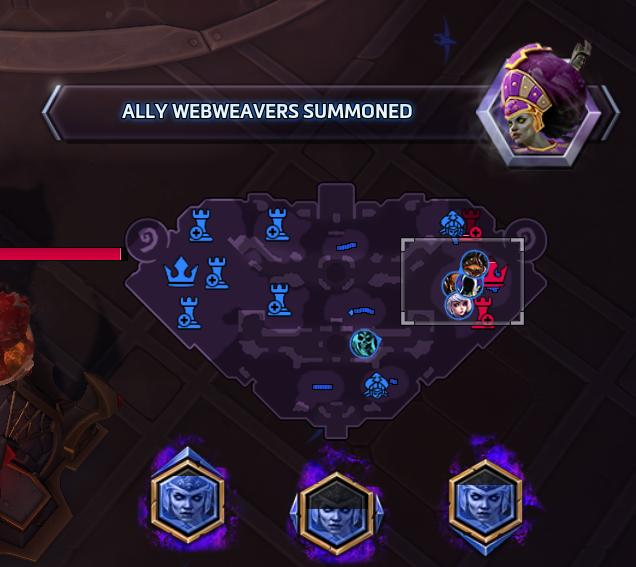blue nexus: (162, 254, 199, 287)
blue player: (459, 249, 490, 282), (349, 328, 380, 358), (453, 271, 483, 299), (444, 292, 473, 320), (441, 271, 463, 296)
blue tower: (265, 281, 292, 317), (203, 254, 230, 289), (175, 295, 202, 329), (264, 206, 290, 241), (188, 207, 213, 242)
